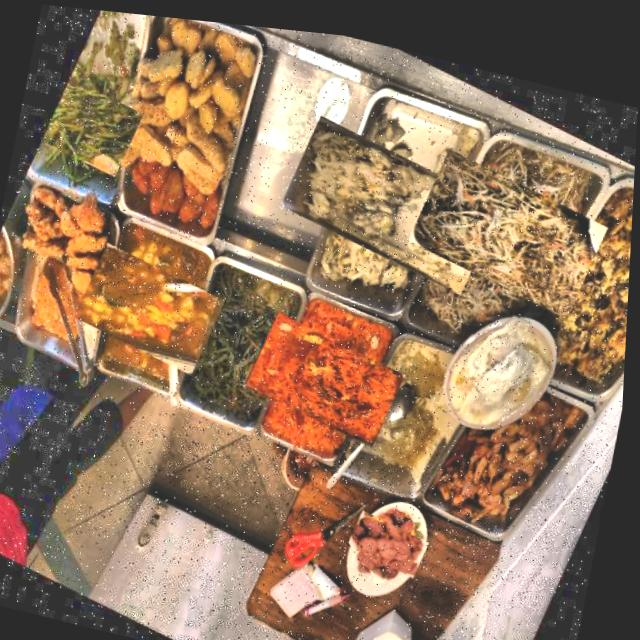Food: (287, 87, 497, 306), (412, 122, 606, 324), (251, 292, 406, 453), (77, 227, 227, 383), (440, 296, 563, 437), (138, 12, 269, 124), (37, 67, 145, 183), (119, 148, 228, 235), (353, 493, 433, 576)
